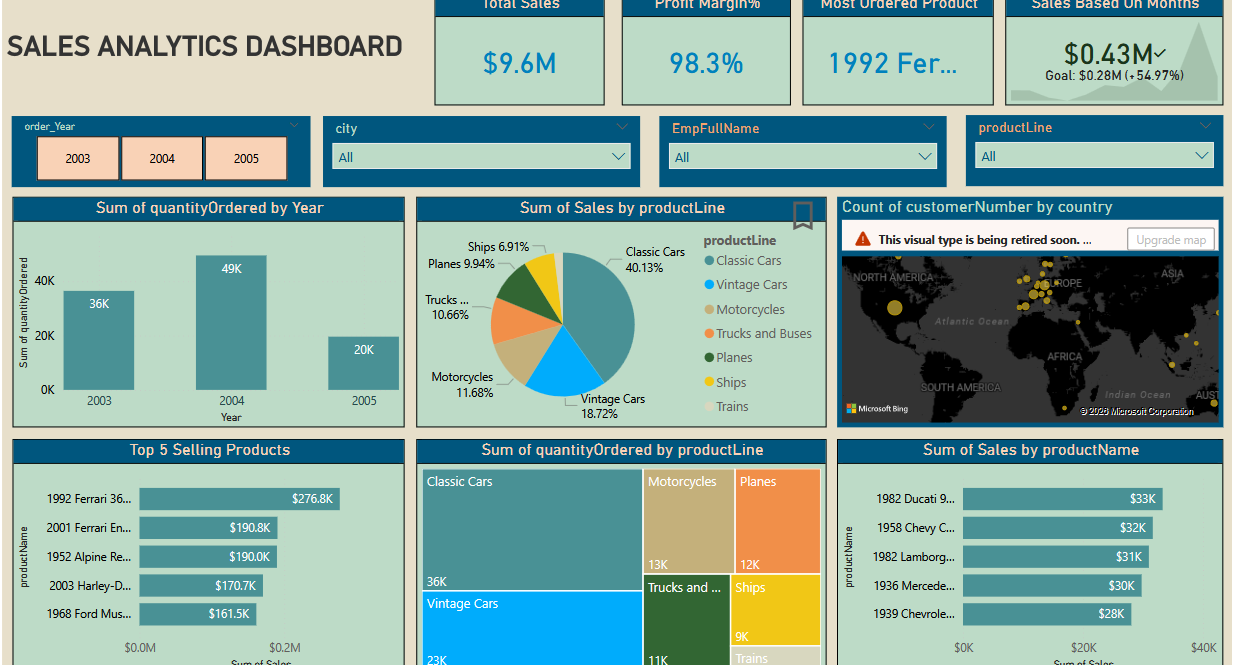

What the dashboard file says about the page in this screenshot:
{"tool":"powerbi","page":{"name":"Page 1","canvas":[1280,720],"ordinal":0},"visuals":[{"type":"cardVisual","title":"Most Ordered Product","fields":{"Data":["products.TopProductName"]},"box":[833.5,0,198.8,117.8],"z":0},{"type":"barChart","title":"Top 5 Selling Products","fields":{"Category":["products.productName"],"Y":["Sum(order details.Sales)"]},"box":[10.7,464.9,408.3,244.7],"z":1000},{"type":"pieChart","fields":{"Category":["products.productLine"],"Y":["Sum(order details.Sales)"]},"box":[431.3,212.6,426.7,240.1],"z":2000},{"type":"slicer","fields":{"Values":["orders.Year"]},"box":[10.2,128.6,310.8,73.9],"z":4000},{"type":"kpi","title":"Sales Based On Months","fields":{"Goal":["orders.sales_2003"],"TrendLine":["orders.Month Name"],"Indicator":["orders.sales_2004"]},"box":[1044.4,0,226.7,118.4],"z":5000},{"type":"map","fields":{"Category":["customers.country"],"Size":["CountNonNull(customers.customerNumber)"]},"box":[868.6,212.6,402.2,240.1],"z":6000},{"type":"treemap","fields":{"Group":["productlines.productLine"],"Values":["Sum(order details.quantityOrdered)"]},"box":[431.3,464.9,426.7,244.7],"z":7000},{"type":"columnChart","fields":{"Category":["orders.Year"],"Y":["Sum(order details.quantityOrdered)"]},"box":[10.7,212.6,408.3,240.1],"z":8000},{"type":"cardVisual","title":"Profit Margin%","fields":{"Data":["order details.totalProfit_percent"]},"box":[645.4,0,175.9,117.8],"z":9000},{"type":"cardVisual","title":"Total Sales","fields":{"Data":["Sum(order details.Sales)"]},"box":[449.6,0,177.4,117.8],"z":10000},{"type":"slicer","fields":{"Values":["offices.city"]},"box":[333.7,128.6,329.9,73.9],"z":11000},{"type":"slicer","fields":{"Values":["employees.FullName"]},"box":[683.9,128.6,299.3,73.9],"z":12000},{"type":"slicer","fields":{"Values":["productlines.productLine"]},"box":[1003.2,128.5,267.6,73.4],"z":13000},{"type":"barChart","fields":{"Category":["products.productName"],"Y":["Sum(order details.Sales)"]},"box":[869,465,402,245],"z":14000},{"type":"actionButton","box":[813.7,212.7,39,39],"z":15000},{"type":"textbox","box":[0,0,449.6,117.8],"z":15001}]}

Visuals, with their boxes on the page's 1280x720 design canvas (x1, y1, x2, y2). These are canvas units, not pixel positions in the 1239x665 screenshot, which may show the page scaled, cropped or inside an application window:
"Most Ordered Product" cardVisual: select_region(834, 0, 1032, 118)
"Top 5 Selling Products" barChart: select_region(11, 465, 419, 710)
pieChart - products.productLine x Sum(order details.Sales): select_region(431, 213, 858, 453)
slicer - orders.Year: select_region(10, 129, 321, 202)
"Sales Based On Months" kpi: select_region(1044, 0, 1271, 118)
map - customers.country x CountNonNull(customers.customerNumber): select_region(869, 213, 1271, 453)
treemap - productlines.productLine x Sum(order details.quantityOrdered): select_region(431, 465, 858, 710)
columnChart - orders.Year x Sum(order details.quantityOrdered): select_region(11, 213, 419, 453)
"Profit Margin%" cardVisual: select_region(645, 0, 821, 118)
"Total Sales" cardVisual: select_region(450, 0, 627, 118)
slicer - offices.city: select_region(334, 129, 664, 202)
slicer - employees.FullName: select_region(684, 129, 983, 202)
slicer - productlines.productLine: select_region(1003, 128, 1271, 202)
barChart - products.productName x Sum(order details.Sales): select_region(869, 465, 1271, 710)
actionButton: select_region(814, 213, 853, 252)
textbox: select_region(0, 0, 450, 118)
